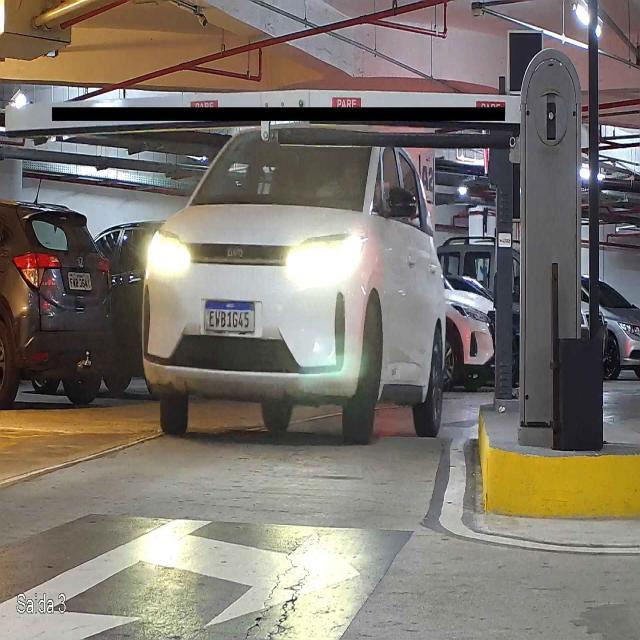mercosul_plate: (204, 299, 256, 333)
